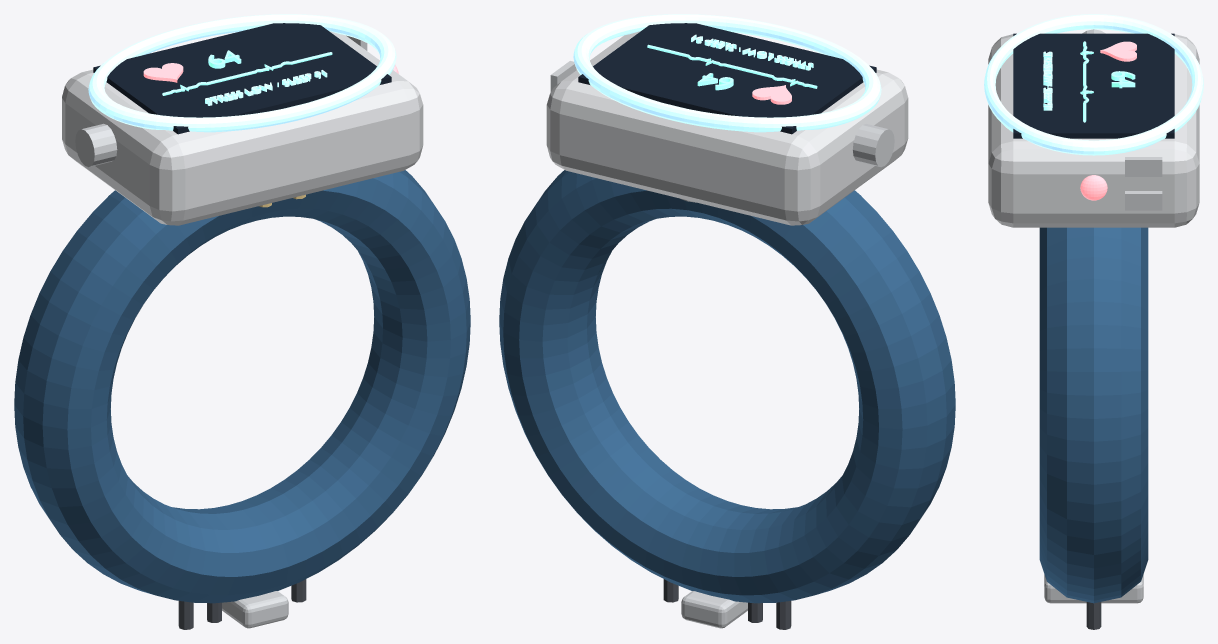
The model's file is ai_wristband.glb.
3 renders of one model, left to right at view 1: azimuth 30°, elevation 25°; view 2: azimuth 150°, elevation 25°; view 3: azimuth 270°, elevation 25°, orthographic. The views are drawn at different scales.
Visible parts, largest first — view 1: Band, Mood_Ring, Emergency_LED, Stress_Text; view 2: Band, Mood_Ring, Emergency_LED, Stress_Text; view 3: Band, Mood_Ring, Emergency_LED, Stress_Text, HR_Icon, Cylinder.004.
Boxes of the visible parts, x1,y1,x2,y2 form: Band: (14,23,470,628); Mood_Ring: (88,14,396,132); Emergency_LED: (162,50,398,95); Stress_Text: (205,70,327,105); Band: (499,23,955,628); Mood_Ring: (573,14,881,132); Emergency_LED: (576,44,817,90); Stress_Text: (691,34,813,70); Band: (988,29,1199,603); Mood_Ring: (984,14,1203,155); Emergency_LED: (1080,41,1135,200); Stress_Text: (1043,51,1052,110); HR_Icon: (1100,41,1136,61); Cylinder.004: (1086,602,1101,629).
Size of the model in its own units: 0.078 by 0.0929 by 0.0354.
5 materials, 5 textured.
